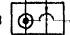Single Phase Tap-Off Unit: (8, 2, 67, 35)
